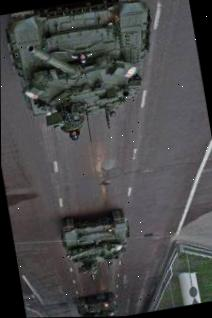tank: (3, 0, 166, 148), (56, 207, 136, 278)
